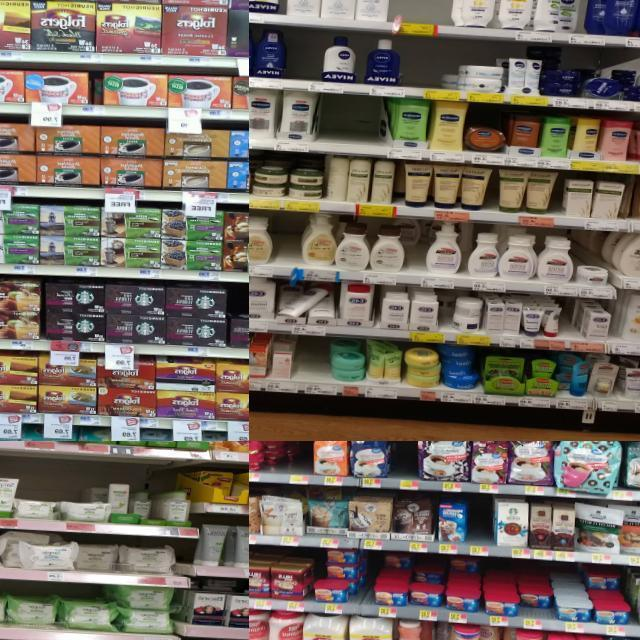Imprecise: (585, 566, 630, 628), (444, 548, 484, 612), (310, 548, 354, 600), (279, 286, 336, 326), (378, 548, 416, 606), (391, 212, 424, 274), (522, 577, 558, 621), (414, 564, 446, 610), (75, 548, 122, 574)
